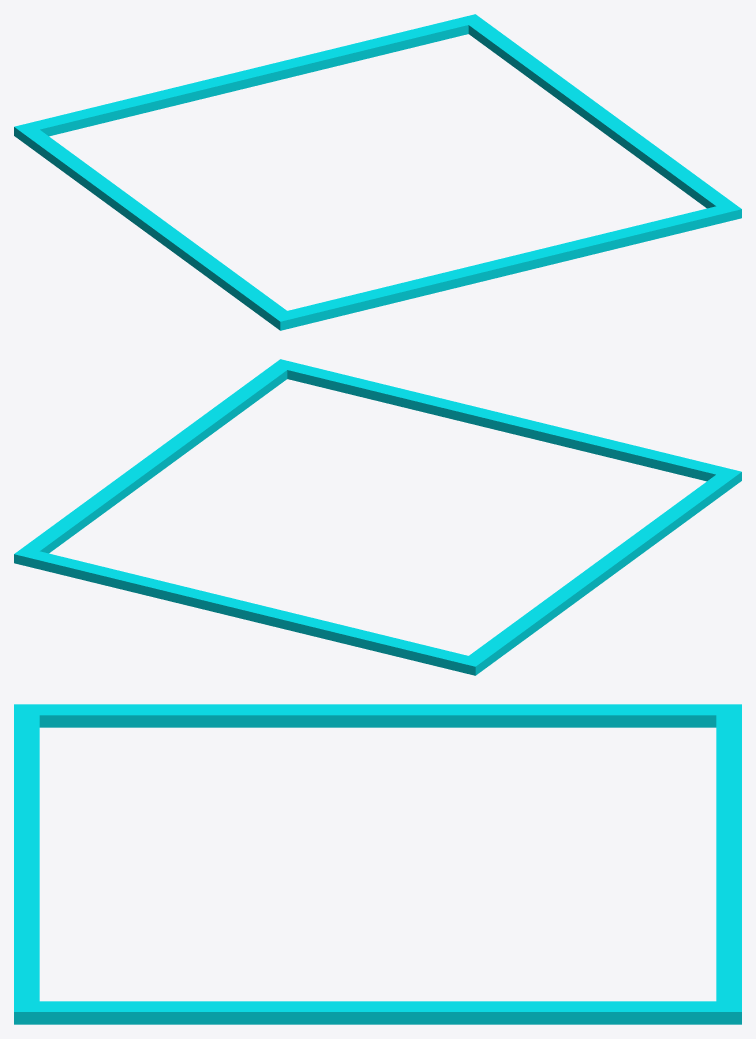
File: frame-skin-12.glb
3 renders of one model, top to bottom at view 1: azimuth 30°, elevation 25°; view 2: azimuth 150°, elevation 25°; view 3: azimuth 270°, elevation 25°, orthographic. The views are drawn at different scales.
Visible parts, largest first — view 1: frame-skin-12; view 2: frame-skin-12; view 3: frame-skin-12.
Boxes of the visible parts, box(x1,y1,x2,y2) form: frame-skin-12: box(14, 14, 741, 330); frame-skin-12: box(14, 359, 741, 675); frame-skin-12: box(14, 704, 741, 1024).
Size of the model in its own units: 17 by 0.32 by 17.
1 material, 1 textured.
